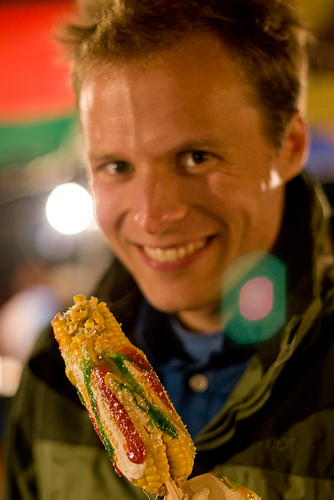corn: (51, 295, 197, 495)
